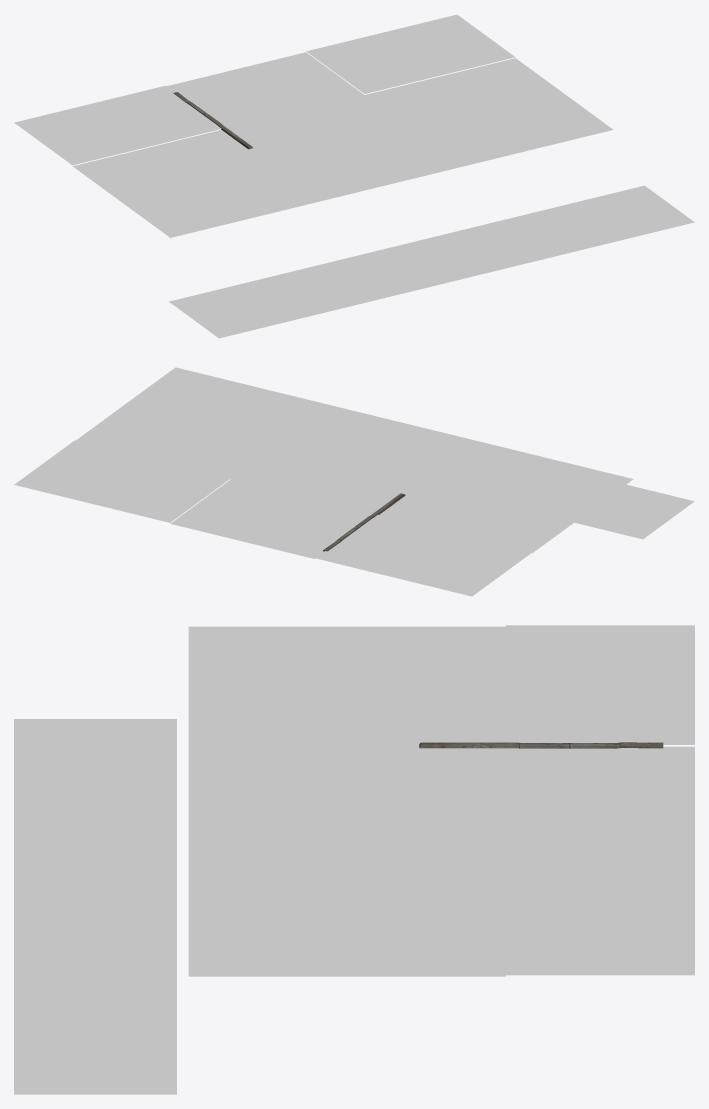
Rendered from f_1130_floor_t4m.FBX.
3 renders of one model, top to bottom at view 1: azimuth 30°, elevation 25°; view 2: azimuth 150°, elevation 25°; view 3: azimuth 270°, elevation 25°, orthographic. The views are drawn at different scales.
Parts seen in each view (by area): view 1: f_map02_floor01; view 2: f_map02_floor01, f_map02_floor02; view 3: f_map02_floor01, f_map02_floor02.
Part boxes in pixels (x1,y1,x2,y2): f_map02_floor01: [14, 14, 694, 338]; f_map02_floor01: [14, 367, 694, 596]; f_map02_floor02: [323, 493, 405, 551]; f_map02_floor01: [14, 625, 694, 1094]; f_map02_floor02: [419, 742, 663, 748].
Size of the model in its own units: 5172 by 633 by 3961.
